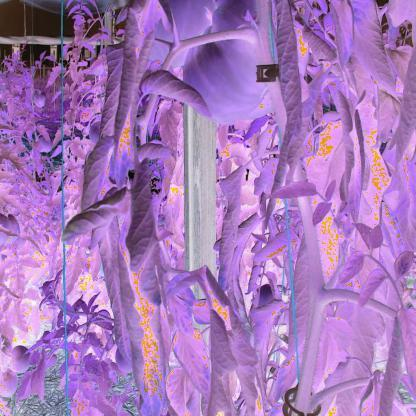Tomato leaf bacterial spot: (121, 156, 169, 311), (214, 160, 249, 298), (140, 63, 216, 125), (98, 34, 126, 148)
